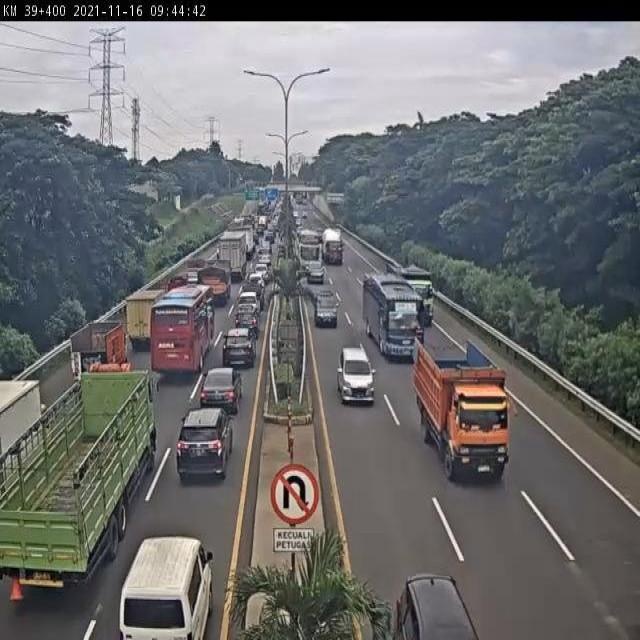big bus: (152, 287, 214, 372), (363, 278, 419, 362)
car: (119, 536, 214, 640), (175, 411, 231, 481), (338, 344, 374, 401), (200, 367, 241, 413), (221, 331, 253, 373), (313, 292, 341, 327), (232, 308, 259, 335), (236, 288, 261, 316)
small truck: (66, 325, 125, 380), (124, 291, 162, 349)
truck-l-: (0, 376, 157, 596), (389, 261, 436, 327)
truck-m-: (416, 332, 511, 484), (195, 266, 231, 306)
